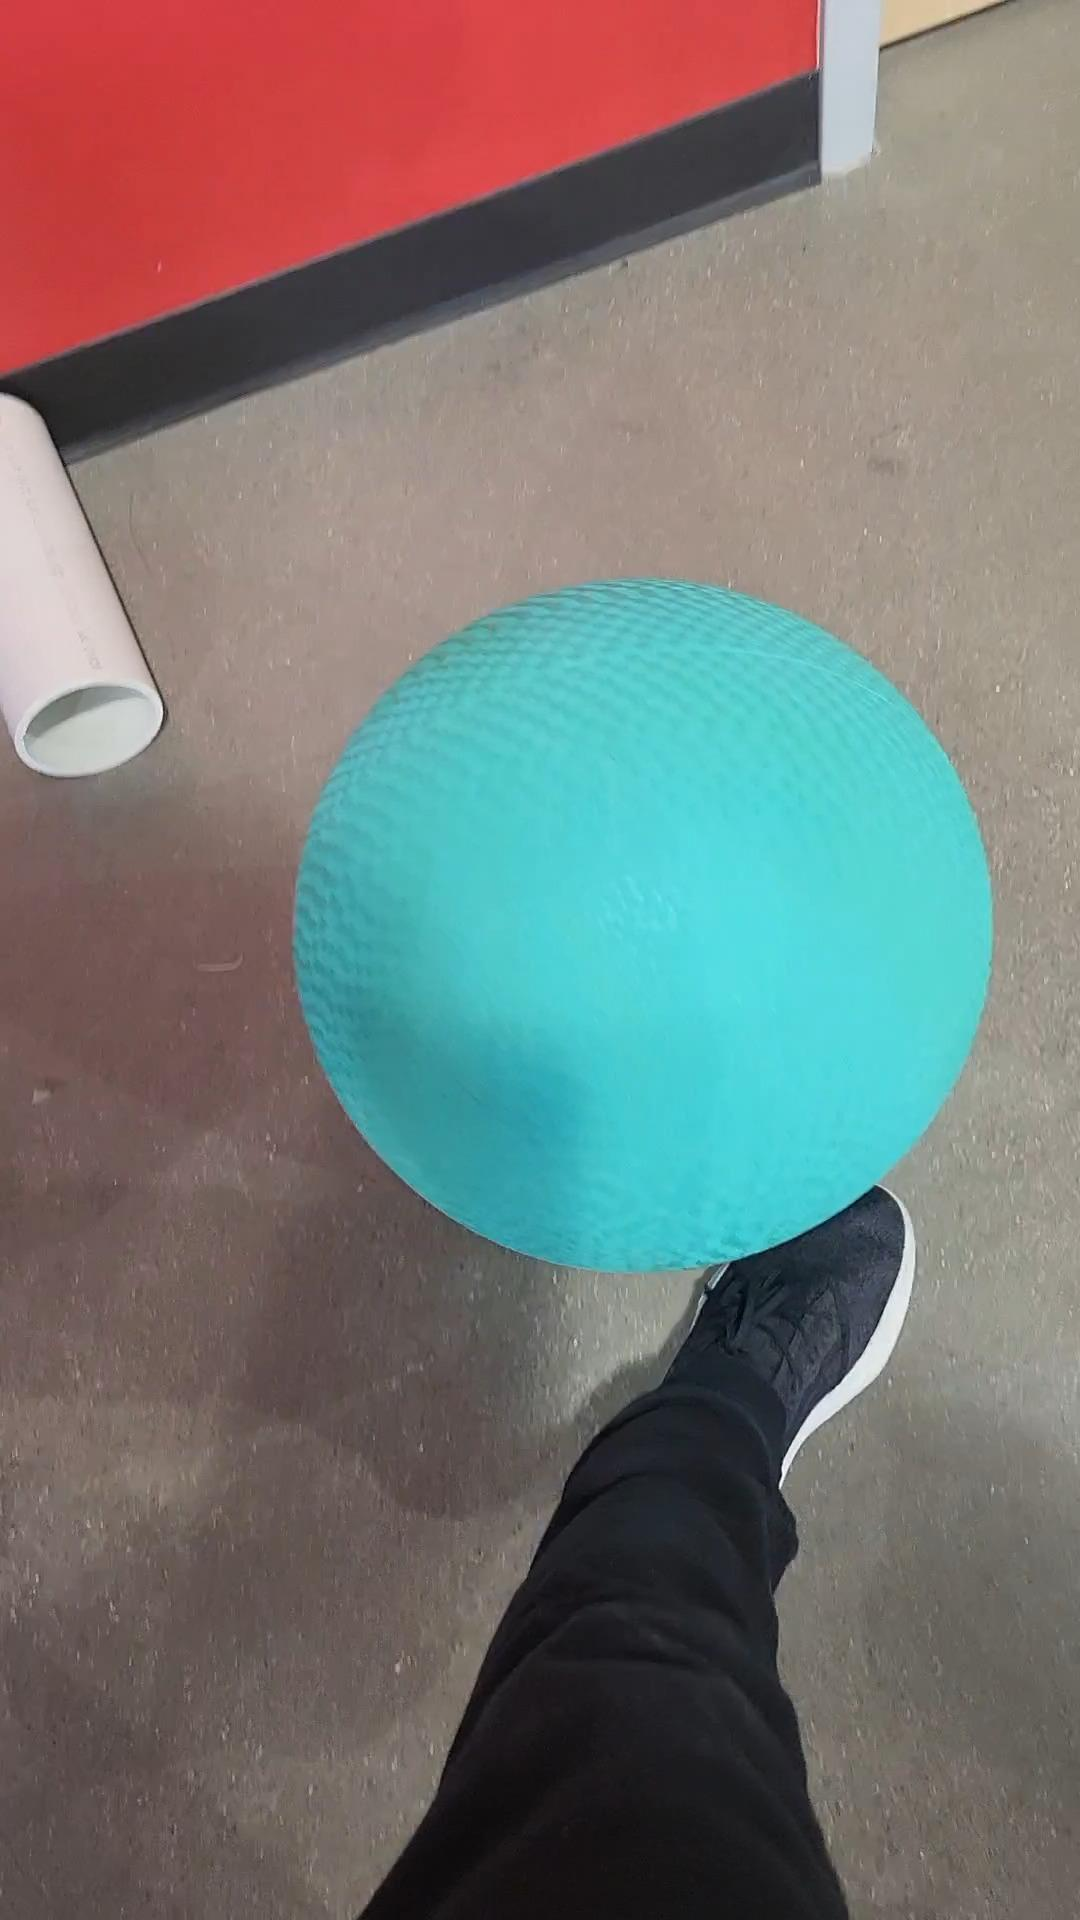algae: (291, 551, 1034, 1284)
coral: (0, 336, 158, 812)
